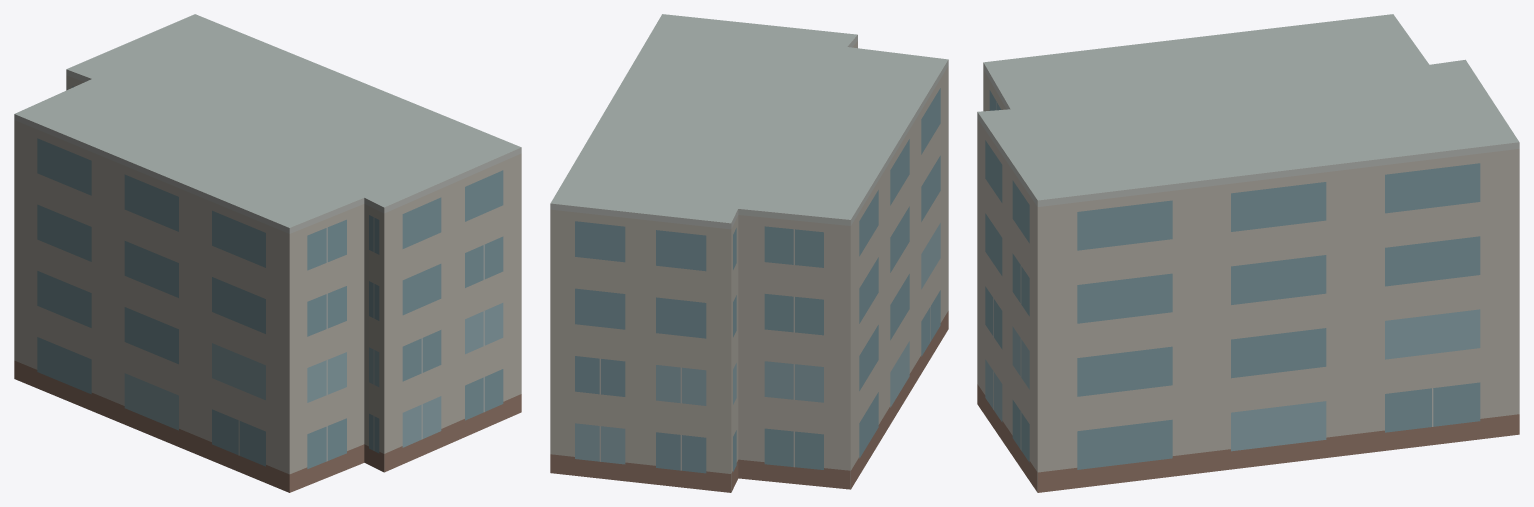
The model's file is survey-upis-32472309.glb.
The picture shows the model from 3 angles, left to right: view 1: azimuth 30°, elevation 25°; view 2: azimuth 150°, elevation 25°; view 3: azimuth 270°, elevation 25°; orthographic projection. The views are drawn at different scales.
Parts seen in each view (by area): view 1: survey-upis-32472309.tmp; view 2: survey-upis-32472309.tmp; view 3: survey-upis-32472309.tmp.
Boxes of the visible parts, x1,y1,x2,y2 form: survey-upis-32472309.tmp: (14,14,521,492); survey-upis-32472309.tmp: (550,14,948,492); survey-upis-32472309.tmp: (977,14,1519,492).
Bounding box in the file's own units: 14.79 × 10.8 × 18.16.
